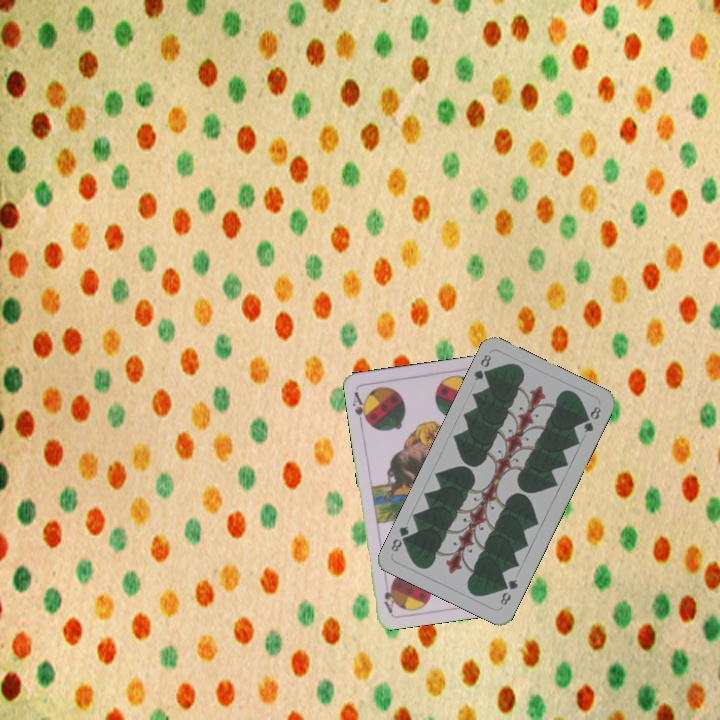G8: (496, 575, 521, 608), (470, 350, 494, 383)
SA: (349, 388, 371, 427)
